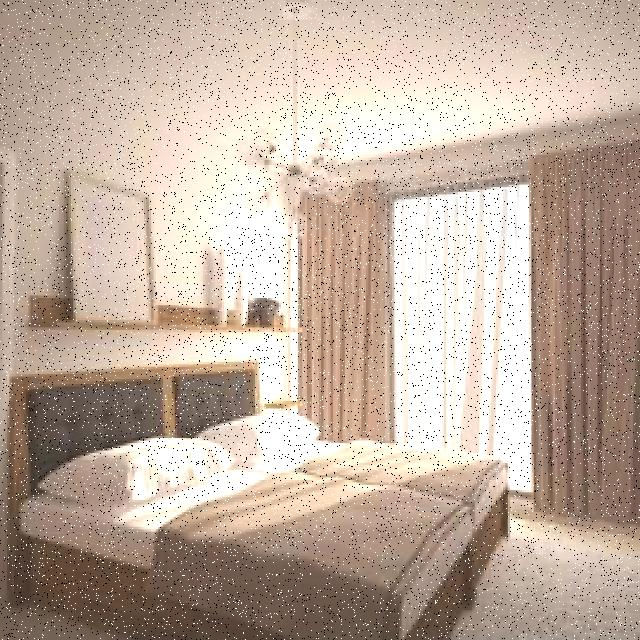bed: (13, 362, 511, 640)
